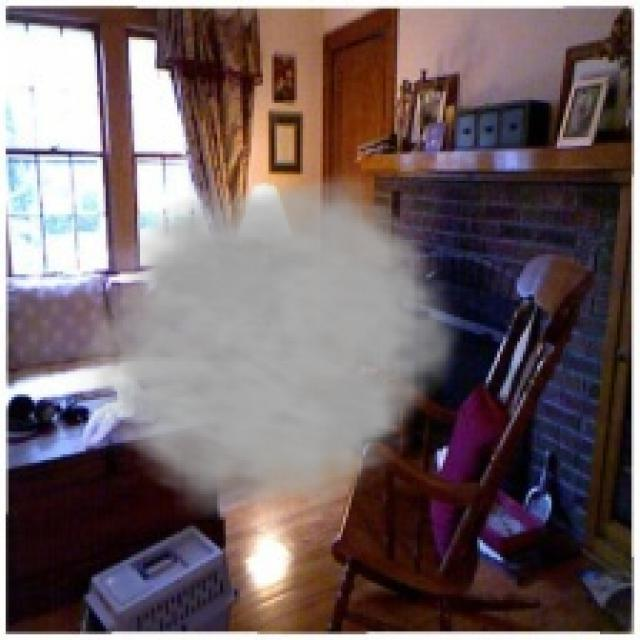Smoke: (66, 160, 472, 520)
